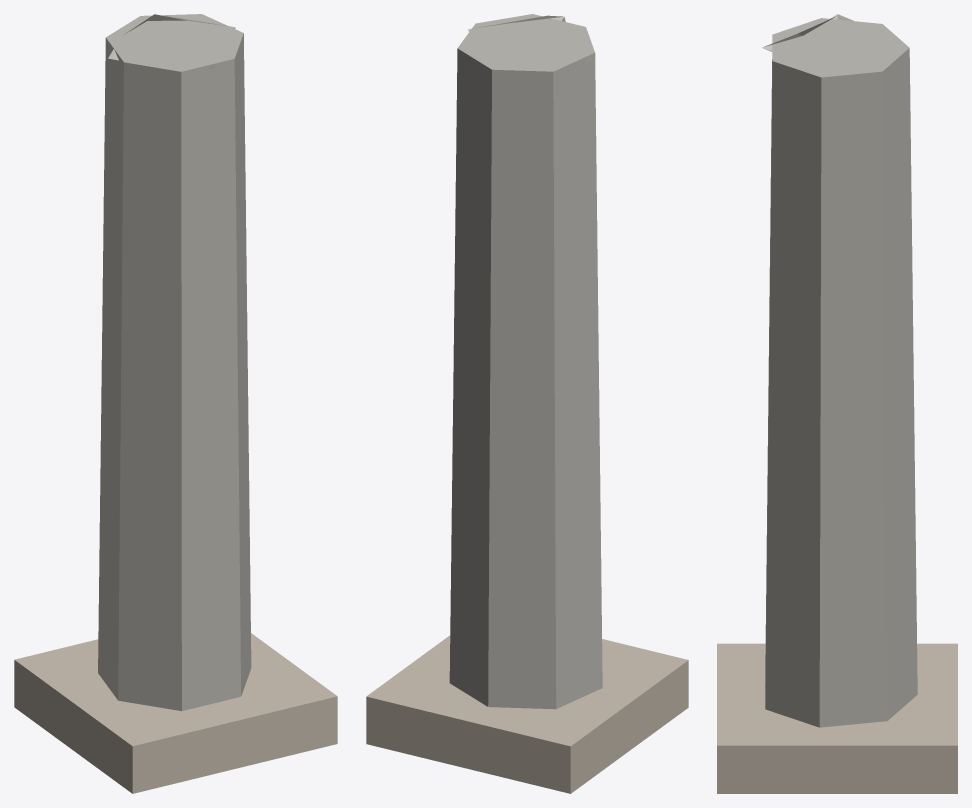
File: column_v08.glb
The picture shows the model from 3 angles, left to right: view 1: azimuth 30°, elevation 25°; view 2: azimuth 150°, elevation 25°; view 3: azimuth 270°, elevation 25°; orthographic projection.
Parts seen in each view (by area): view 1: lod0; view 2: lod0; view 3: lod0.
Part boxes in pixels (x1,y1,x2,y2): lod0: [14, 14, 337, 793]; lod0: [366, 14, 688, 793]; lod0: [717, 14, 957, 793].
Size of what is drawn, in the model's own units: 0.72 by 2.37 by 0.72.
